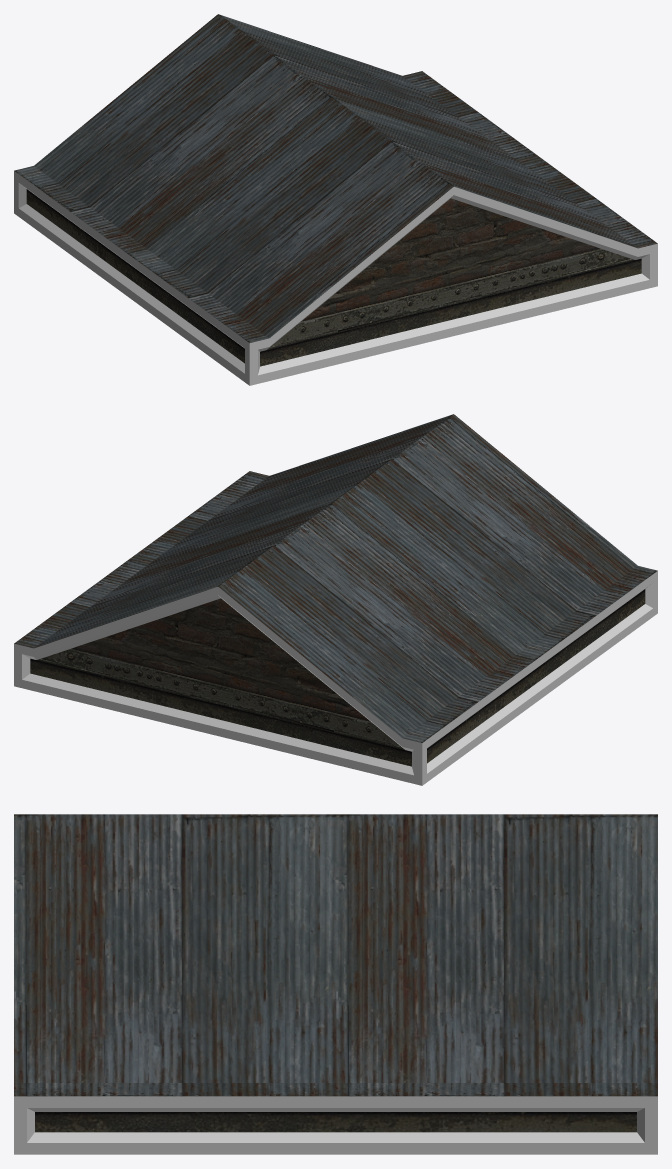
File: roof_bx_2.fbx
3 renders of one model, top to bottom at view 1: azimuth 30°, elevation 25°; view 2: azimuth 150°, elevation 25°; view 3: azimuth 270°, elevation 25°, orthographic. The views are drawn at different scales.
Visible parts, largest first — view 1: roof_bx_2; view 2: roof_bx_2; view 3: roof_bx_2.
Part boxes in pixels (x1,y1,x2,y2): roof_bx_2: (14, 14, 657, 385); roof_bx_2: (14, 414, 657, 785); roof_bx_2: (14, 814, 657, 1154).
Size of the model in its own units: 4 by 4 by 1.4.
